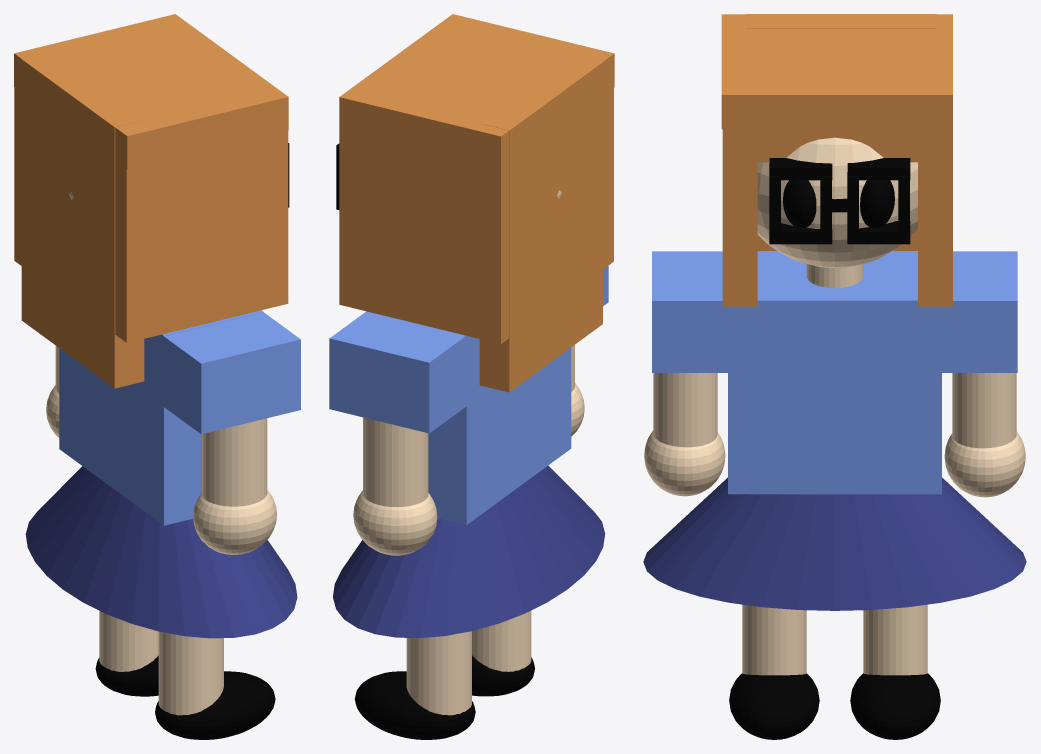
The model's file is BlueGirl.fbx.
3 renders of one model, left to right at view 1: azimuth 30°, elevation 25°; view 2: azimuth 150°, elevation 25°; view 3: azimuth 270°, elevation 25°, orthographic. The views are drawn at different scales.
Visible parts, largest first — view 1: Cube, Cube.001, Cube.002, Cone, Cube.005, Sphere.018, Sphere.015, Sphere.019, Cube.004, Sphere.014; view 2: Cube.004, Cube.001, Cube.002, Cone, Cube.005, Sphere.019, Sphere.014, Sphere.018, Cube, Sphere.015; view 3: Cube.001, Cone, Cube.005, Sphere.018, Sphere.019, Sphere.014, Sphere.015, Sphere, Cube, Cube.004, Cube.003, Cube.002 (+11 smaller).
Boxes of the visible parts, x1,y1,x2,y2 form: Cube: (115,130,288,342); Cube.001: (59,310,300,525); Cube.002: (21,52,144,388); Cone: (25,466,297,638); Cube.005: (14,14,288,169); Sphere.018: (155,631,275,739); Sphere.015: (193,418,276,554); Sphere.019: (95,611,158,696); Cube.004: (14,71,21,265); Sphere.014: (46,346,59,437); Cube.004: (339,131,508,343); Cube.001: (329,266,608,525); Cube.002: (479,55,602,392); Cone: (333,465,605,638); Cube.005: (339,14,614,169); Sphere.019: (354,631,475,739); Sphere.014: (353,417,437,555); Sphere.018: (472,611,534,696); Cube: (603,72,613,269); Sphere.015: (571,345,584,436); Cube.001: (652,251,1017,494); Cone: (643,477,1026,610); Cube.005: (721,14,952,129); Sphere.018: (729,604,819,739); Sphere.019: (850,604,940,739); Sphere.014: (944,373,1025,497); Sphere.015: (644,373,725,496); Sphere: (757,137,917,267); Cube: (722,113,757,306); Cube.004: (918,113,952,306); Cube.003: (757,129,917,162); Cube.002: (746,14,936,250).
Size of the model in its own units: 217 by 679 by 359.
